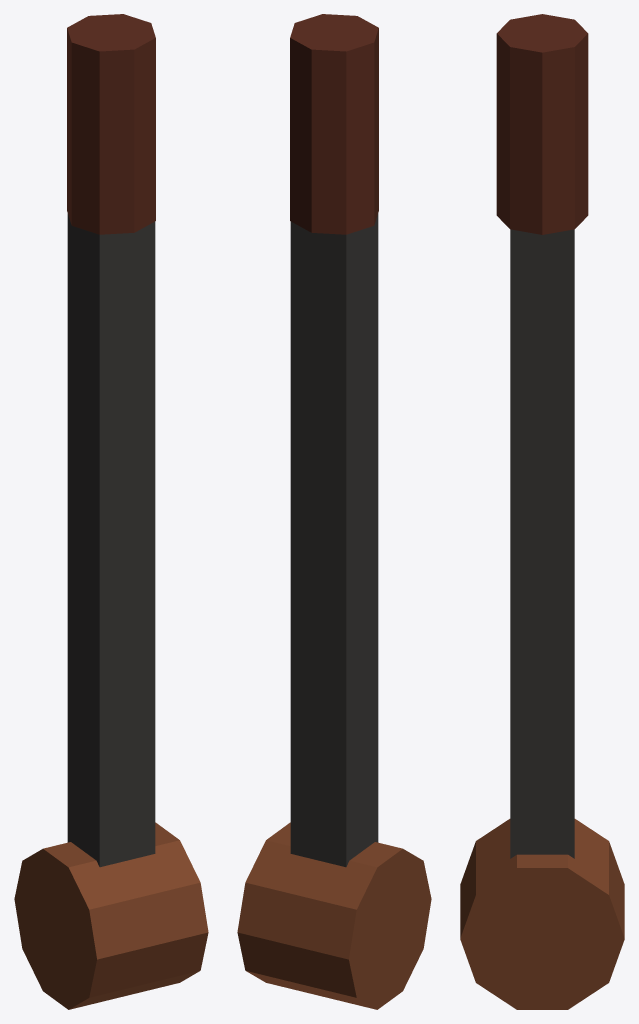
File: TownLever.glb
The picture shows the model from 3 angles, left to right: view 1: azimuth 30°, elevation 25°; view 2: azimuth 150°, elevation 25°; view 3: azimuth 270°, elevation 25°; orthographic projection.
Parts seen in each view (by area): view 1: TownLever.001; view 2: TownLever.001; view 3: TownLever.001.
Boxes of the visible parts, x1,y1,x2,y2 form: TownLever.001: [14, 14, 208, 1009]; TownLever.001: [237, 14, 431, 1009]; TownLever.001: [460, 14, 624, 1009].
Size of the model in its own units: 0.14 by 1.15 by 0.18.
